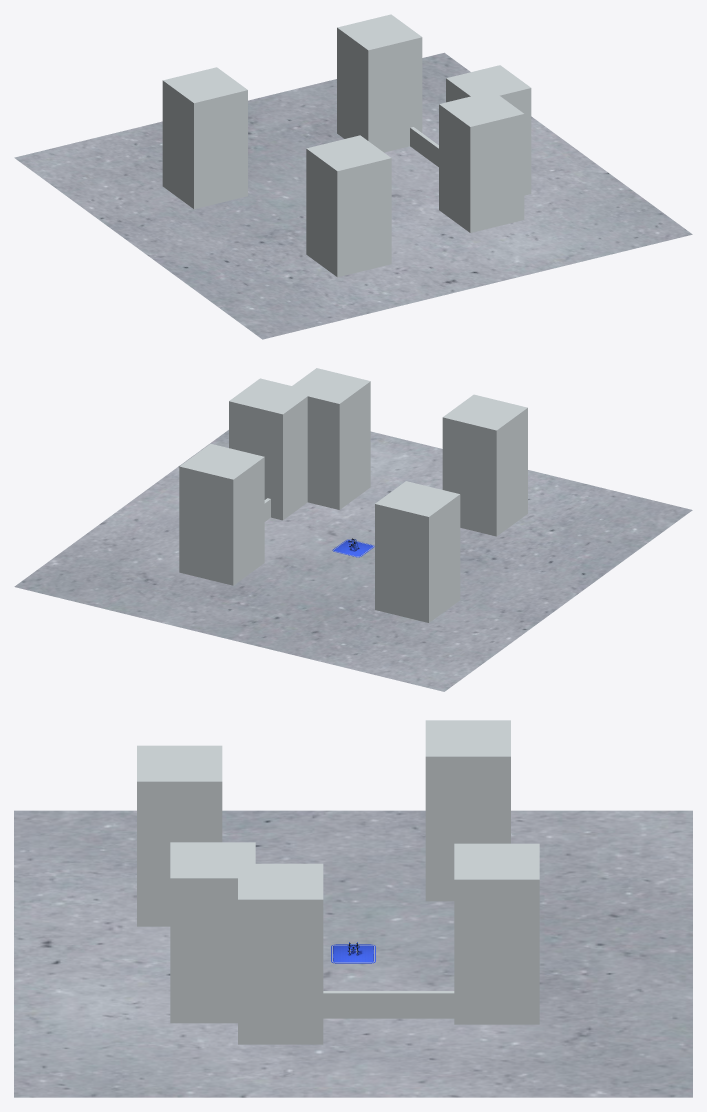
File: testProduct.glb
3 renders of one model, top to bottom at view 1: azimuth 30°, elevation 25°; view 2: azimuth 150°, elevation 25°; view 3: azimuth 270°, elevation 25°, orthographic. The views are drawn at different scales.
Visible parts, largest first — view 1: Plane, Plane.001, Plane.004, Plane.002, Plane.005, Plane.003, Plane.007; view 2: Plane, Plane.005, Plane.001, Plane.004, Plane.002, Plane.003; view 3: Plane, Plane.005, Plane.003, Plane.002, Plane.001, Plane.004, Plane.007, Cube.
Part boxes in pixels (x1=…): Plane: x1=14, y1=52, x2=692, y2=339; Plane.001: x1=162, y1=67, x2=247, y2=209; Plane.004: x1=306, y1=135, x2=391, y2=277; Plane.002: x1=439, y1=91, x2=524, y2=232; Plane.005: x1=337, y1=14, x2=422, y2=152; Plane.003: x1=446, y1=65, x2=531, y2=195; Plane.007: x1=410, y1=127, x2=438, y2=166; Plane: x1=14, y1=430, x2=692, y2=691; Plane.005: x1=179, y1=443, x2=264, y2=585; Plane.001: x1=375, y1=481, x2=460, y2=622; Plane.004: x1=442, y1=394, x2=527, y2=536; Plane.002: x1=286, y1=368, x2=370, y2=509; Plane.003: x1=229, y1=378, x2=310, y2=520; Plane: x1=14, y1=810, x2=692, y2=1097; Plane.005: x1=454, y1=843, x2=539, y2=1024; Plane.003: x1=238, y1=863, x2=323, y2=1044; Plane.002: x1=170, y1=842, x2=255, y2=1023; Plane.001: x1=425, y1=720, x2=510, y2=901; Plane.004: x1=137, y1=745, x2=222, y2=926; Plane.007: x1=323, y1=991, x2=454, y2=1018; Cube: x1=331, y1=944, x2=375, y2=963.
Size of the model in its own units: 94.49 by 24.17 by 94.49.
10 materials, 2 textured.
